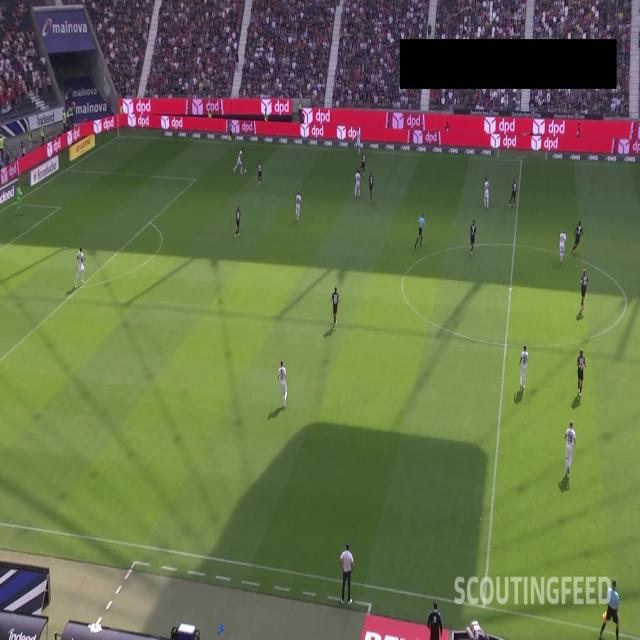ball: (242, 163, 249, 175)
player: (275, 357, 291, 408), (563, 424, 576, 483), (73, 243, 87, 287), (576, 344, 586, 401), (519, 340, 528, 395), (571, 221, 585, 256), (580, 266, 588, 318), (330, 286, 341, 322), (556, 229, 566, 268), (233, 202, 244, 235), (482, 174, 490, 212), (16, 181, 24, 216), (470, 216, 477, 255), (236, 145, 244, 179), (295, 193, 303, 225), (354, 166, 361, 202), (510, 178, 518, 209), (257, 155, 264, 185), (356, 125, 362, 151), (361, 151, 367, 175), (369, 175, 375, 198)
